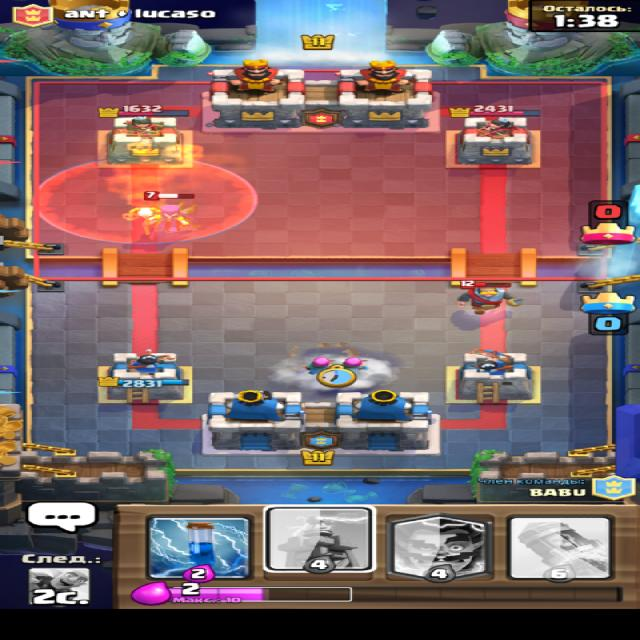Enemy-Knight: (455, 279, 524, 316)
Enemy-Witch: (125, 190, 198, 241)
Player-Archer: (299, 356, 337, 374), (339, 356, 368, 372)
